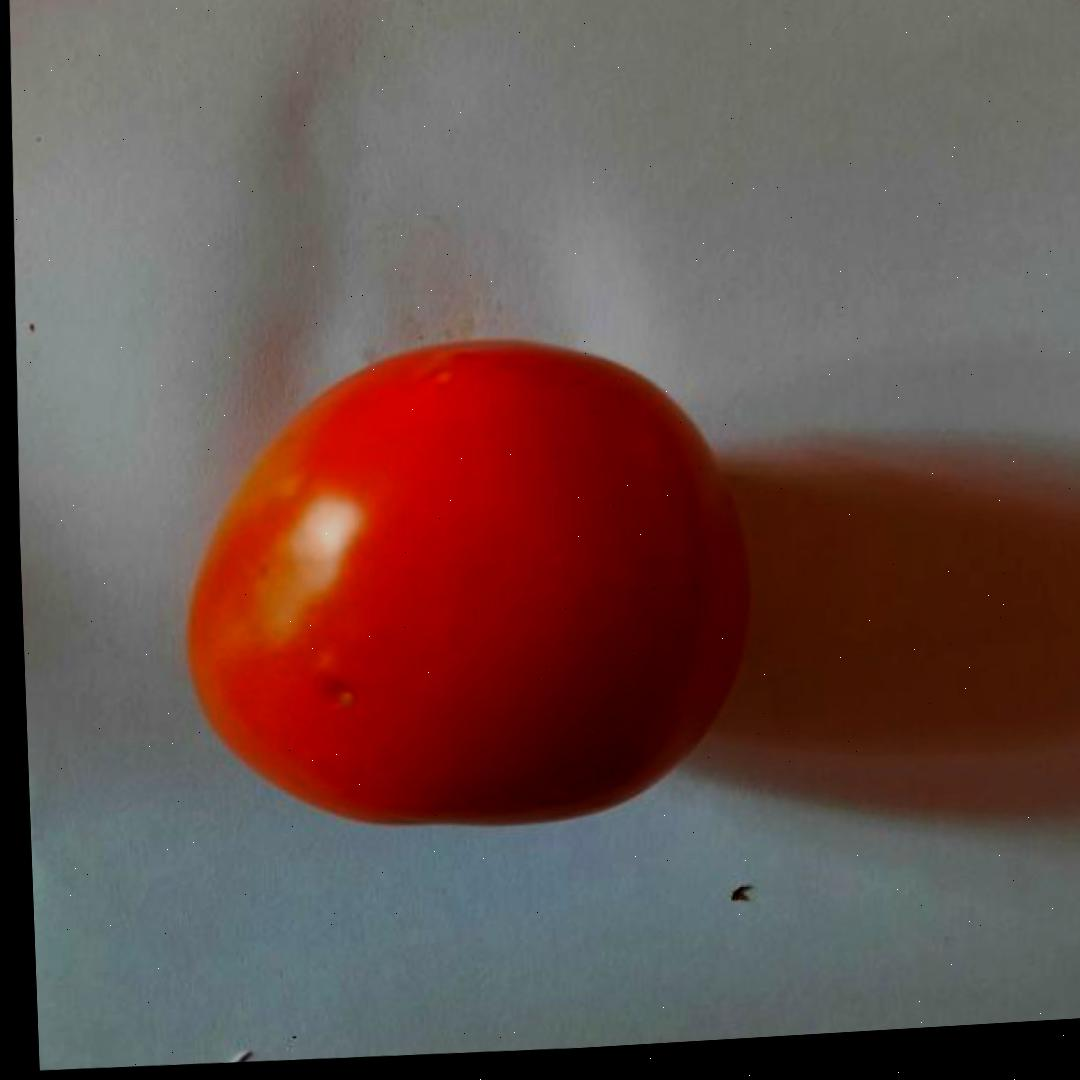matang: (163, 317, 777, 856)
